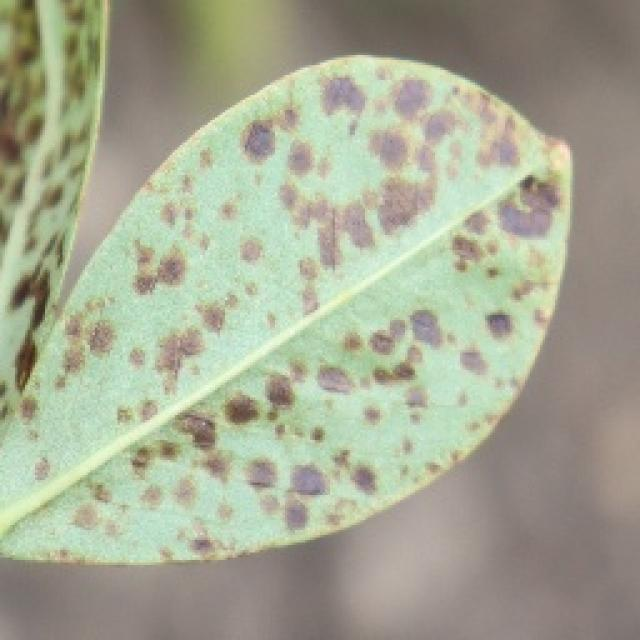Whitefly: (0, 0, 564, 566)
